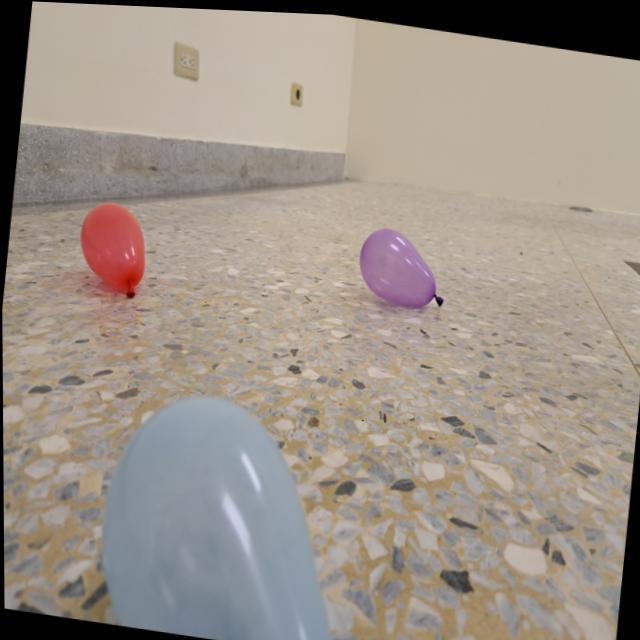other: (86, 378, 356, 640), (354, 219, 451, 312)
red: (74, 196, 151, 302)
